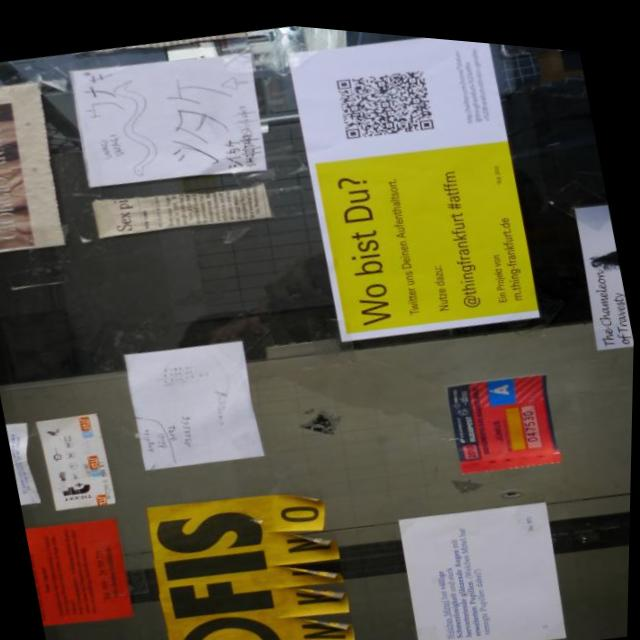qrcode: (336, 56, 435, 137)
